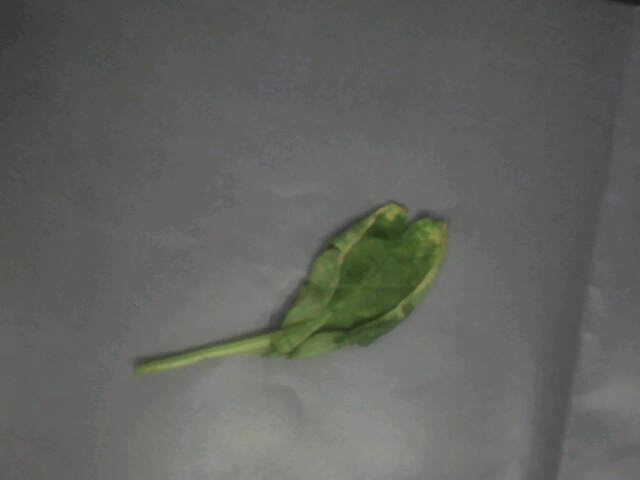yellow: (195, 190, 477, 364)
